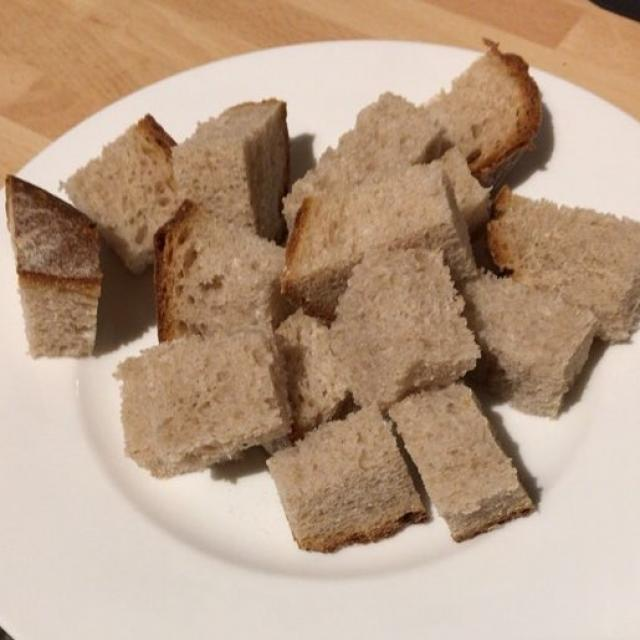bread: (15, 52, 631, 551)
